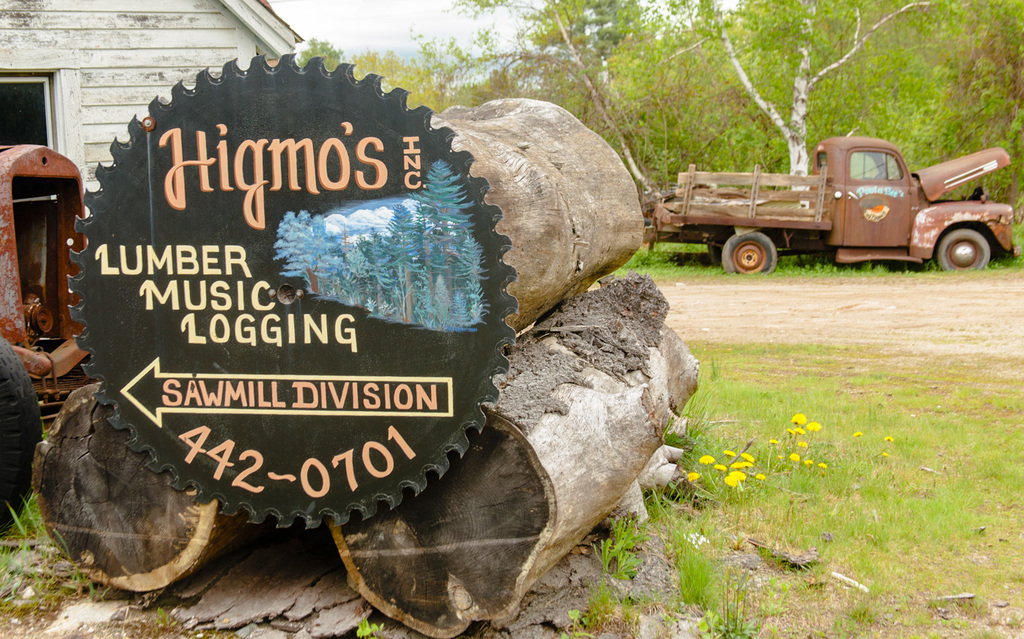truck: (635, 99, 1020, 282)
